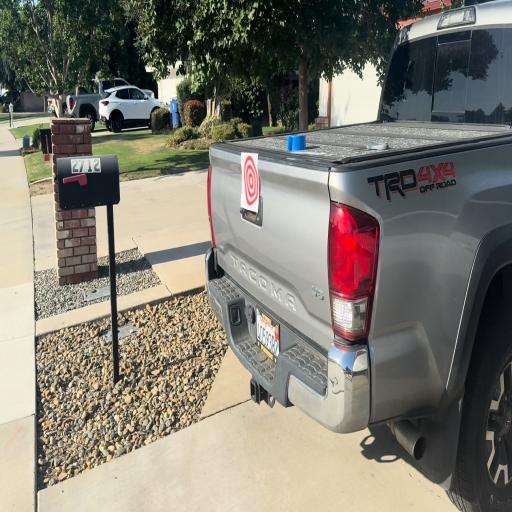bullseye: (242, 153, 258, 213)
